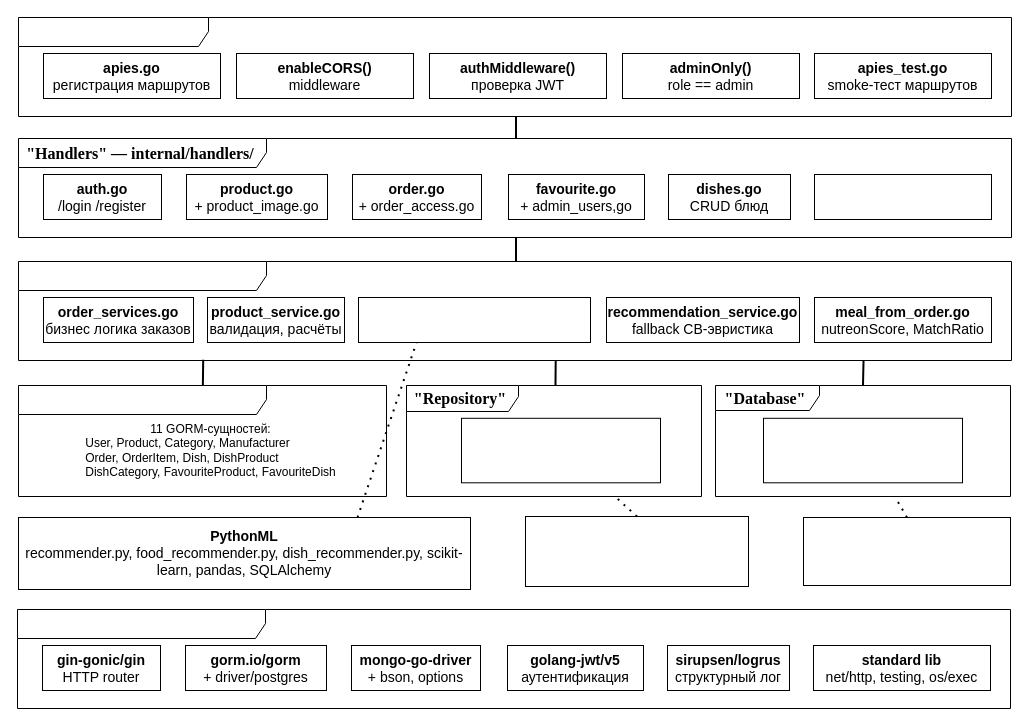
Some shapes in this 1029 by 726 pixel diagram are drawn without their labels. The box of each missing label's shape, as (x1, y1, x2, y2) in pixels:
"API" — internal/api/v1/: (18, 16, 1012, 116)
"Models" — internal/models/: (18, 384, 386, 496)
"Services" — internal/services/: (18, 260, 1012, 360)
MongoDB products (изображения): (524, 516, 748, 586)
postgres.go, mongo.go Connect, LoadConfig DBPostgres, DBMongo: (762, 417, 962, 483)
PostgreSQL 11 таблиц + индексы: (802, 516, 1010, 586)
product_image.go SaveProductImage GetProductImage / Delete: (460, 417, 660, 483)
python_recommender_service.go мост к Python: (358, 296, 590, 342)
recommendation.go + base,go (Generic CRUD): (814, 174, 992, 220)
Внешние зависимости (go.mod): (16, 608, 1010, 708)
